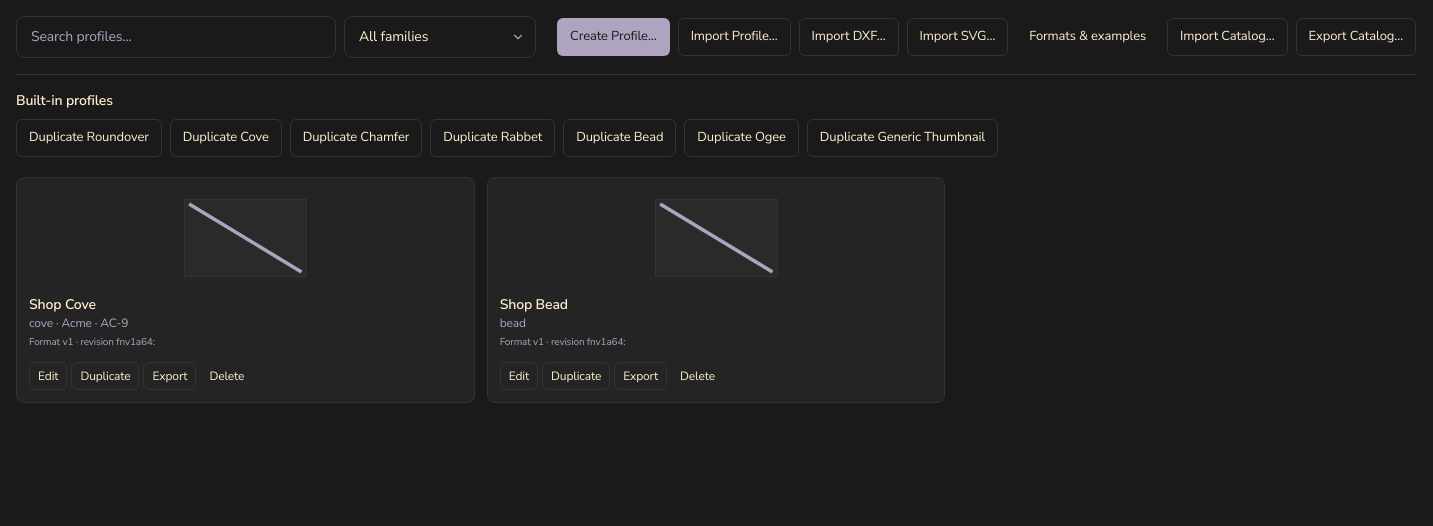
Scenario: RouterProfilesTab › reports a malformed import instead of adding it
Click the button "Import Profile…".
click(734, 37)  # box x1=678 y1=18 x2=791 y2=56
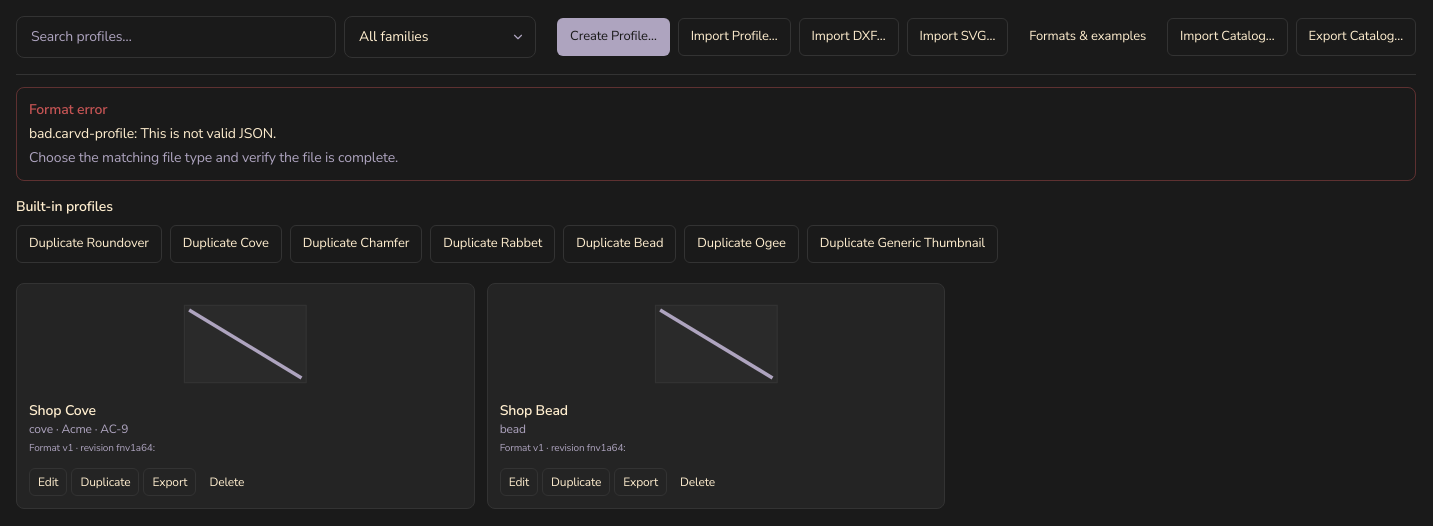
Expected: the text "bad.carvd-profile: This is not valid JSON." is shown, x1=29 y1=124 x2=276 y2=143
